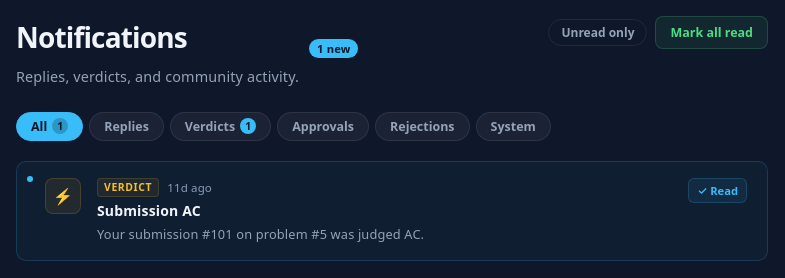
Test: NotificationsPage (live events) › marks one notification read through the endpoint
This screenshot has width=785, height=278.
Check: the text "Submission AC" is shown, box x1=97 y1=201 x2=201 y2=220
Click the button "✓ Read": [718, 190] box x1=688 y1=178 x2=747 y2=203
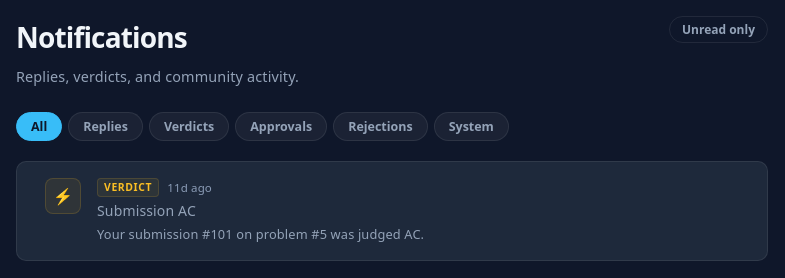
Check: the button "✓ Read" is gone
